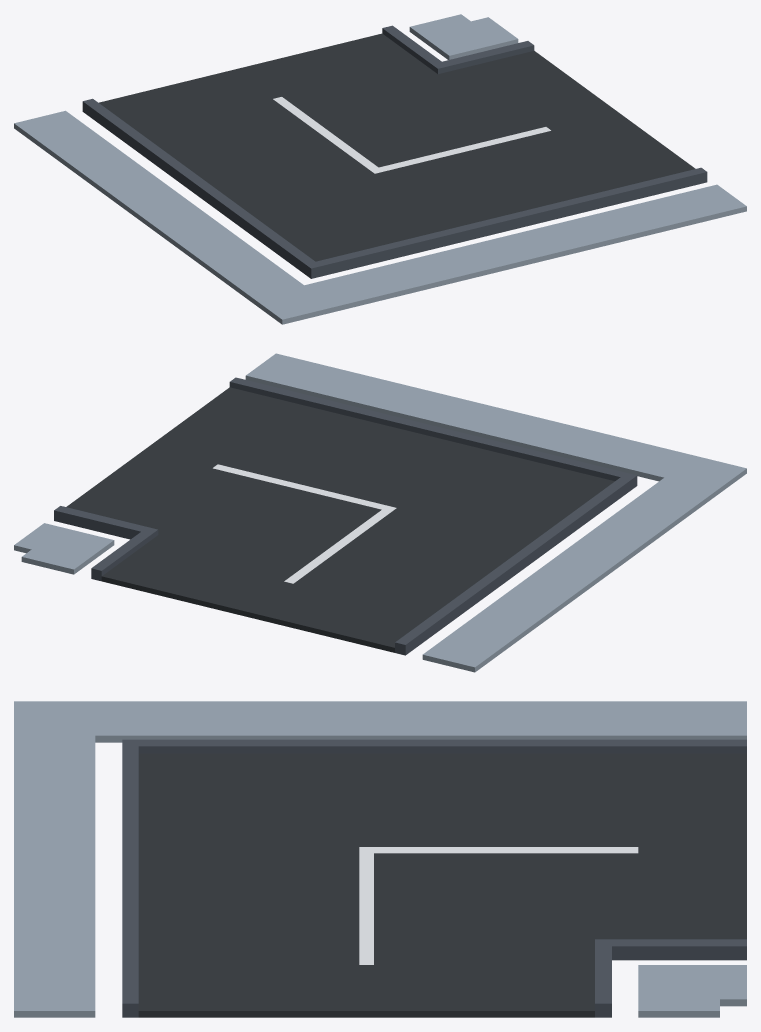
File: road2.glb
3 renders of one model, top to bottom at view 1: azimuth 30°, elevation 25°; view 2: azimuth 150°, elevation 25°; view 3: azimuth 270°, elevation 25°, orthographic. The views are drawn at different scales.
Parts seen in each view (by area): view 1: Jalan2; view 2: Jalan2; view 3: Jalan2.
Boxes of the visible parts, x1,y1,x2,y2 form: Jalan2: (14, 14, 746, 324); Jalan2: (14, 353, 746, 672); Jalan2: (14, 701, 746, 1017).
Bounding box in the file's own units: 9.64 × 0.2065 × 9.64.
